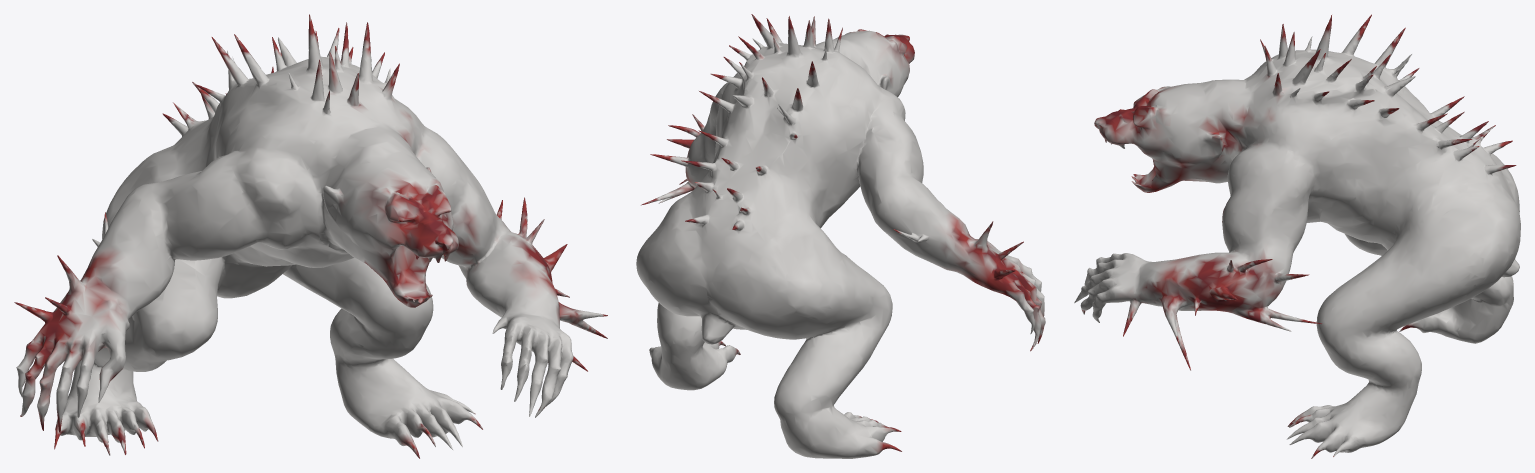
The model's file is bear_high.glb.
3 views of the same model, side by side, from view 1: azimuth 30°, elevation 25°; view 2: azimuth 150°, elevation 25°; view 3: azimuth 270°, elevation 25° (orthographic). The views are drawn at different scales.
Visible parts, largest first — view 1: bear; view 2: bear; view 3: bear.
Boxes of the visible parts, x1=… form: bear: x1=14, y1=14, x2=607, y2=458; bear: x1=636, y1=14, x2=1045, y2=458; bear: x1=1074, y1=14, x2=1520, y2=458.
Size of the model in its own units: 3.56 by 3 by 3.19.
